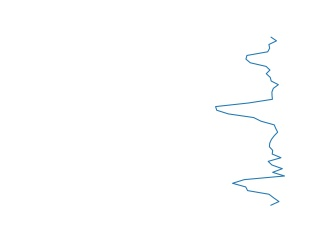underwaterNaturalLevee: (212, 37, 288, 206)
